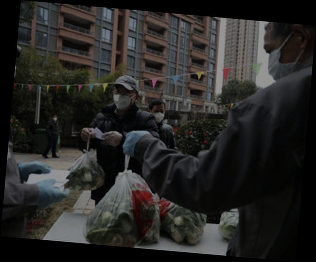with_mask: (261, 41, 298, 81), (112, 87, 133, 112), (150, 108, 166, 124), (52, 115, 59, 122)
